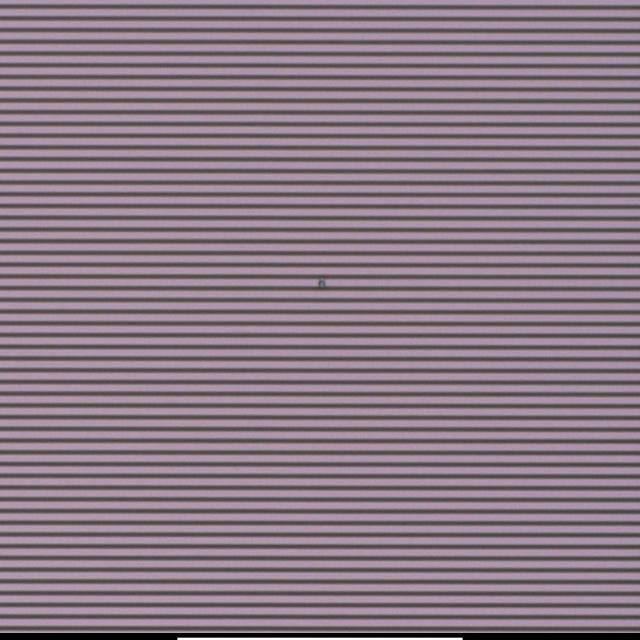03_intrusion: (316, 274, 334, 292)
